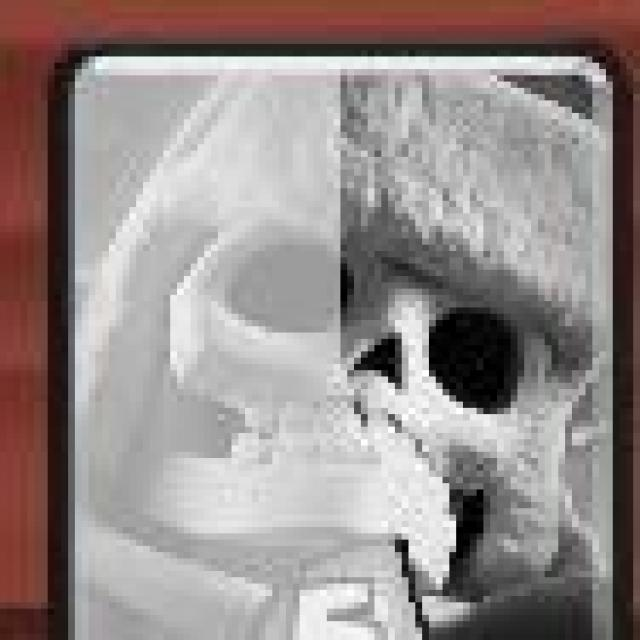Giant_Skeleton: (51, 36, 636, 640)
